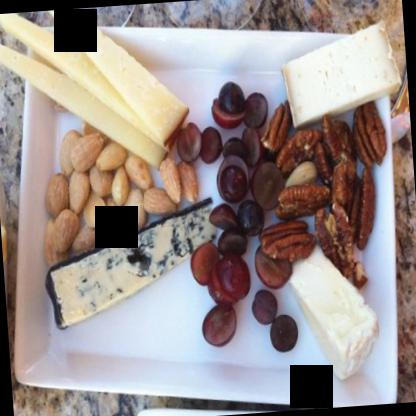almond: (63, 130, 104, 173), (159, 150, 183, 206), (53, 212, 82, 256), (43, 172, 72, 214), (146, 184, 180, 218), (80, 193, 108, 231), (178, 160, 200, 206), (110, 165, 132, 208)
